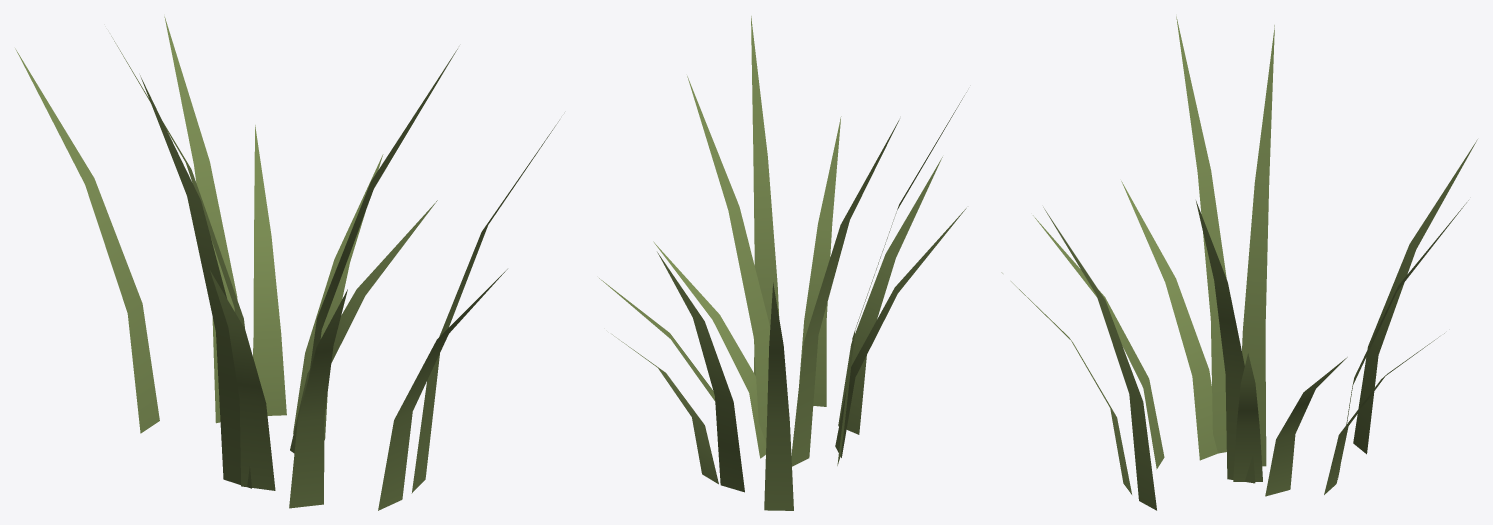
Rendered from grass_tuft.glb.
3 renders of one model, left to right at view 1: azimuth 30°, elevation 25°; view 2: azimuth 150°, elevation 25°; view 3: azimuth 270°, elevation 25°, orthographic. The views are drawn at different scales.
Parts seen in each view (by area): view 1: GrassTuft_leaf_green; view 2: GrassTuft_leaf_green; view 3: GrassTuft_leaf_green.
Boxes of the visible parts, left/top/right/bottom form: GrassTuft_leaf_green: left=15, top=16, right=559, bottom=510; GrassTuft_leaf_green: left=599, top=16, right=966, bottom=510; GrassTuft_leaf_green: left=1001, top=16, right=1477, bottom=510.
Bounding box in the file's own units: 0.4243 × 0.54 × 0.6077.
